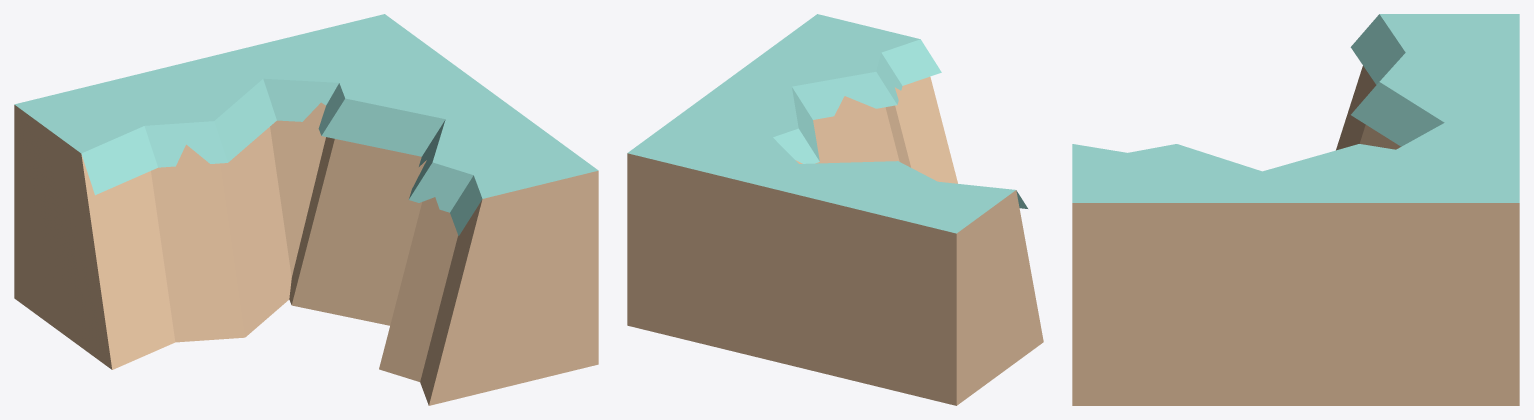
File: cliffBrown_halfCornerInner.glb
3 renders of one model, left to right at view 1: azimuth 30°, elevation 25°; view 2: azimuth 150°, elevation 25°; view 3: azimuth 270°, elevation 25°, orthographic. The views are drawn at different scales.
Parts seen in each view (by area): view 1: cliffBrown_halfCornerInner; view 2: cliffBrown_halfCornerInner; view 3: cliffBrown_halfCornerInner.
Boxes of the visible parts, bbox=[...] form: cliffBrown_halfCornerInner: bbox=[14, 14, 598, 405]; cliffBrown_halfCornerInner: bbox=[627, 14, 1043, 405]; cliffBrown_halfCornerInner: bbox=[1072, 14, 1519, 405].
Bounding box in the file's own units: 1 × 0.5 × 1.
